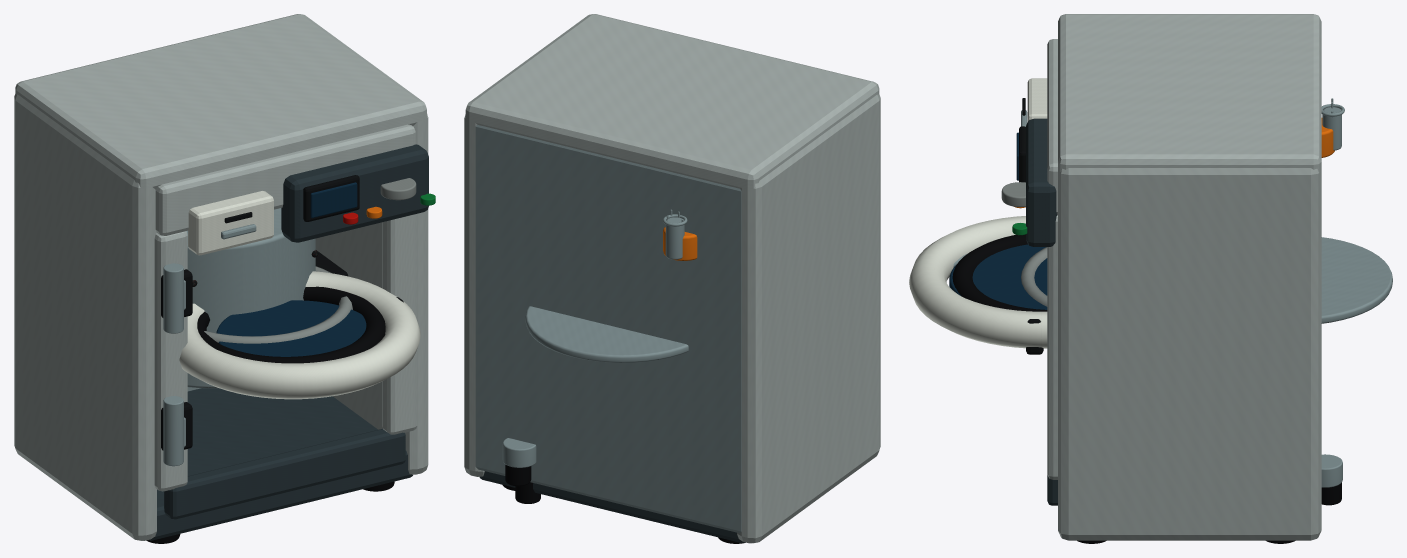
File: WASHER-001.fbx
3 renders of one model, left to right at view 1: azimuth 30°, elevation 25°; view 2: azimuth 150°, elevation 25°; view 3: azimuth 270°, elevation 25°, orthographic. The views are drawn at different scales.
Visible parts, largest first — view 1: LeftCabinetPanel_Mesh, CabinetTop_Mesh, CabinetBottom_Mesh, DoorOuterRing_Mesh, FrontLowerRail_Mesh, StainlessDrumShell_Mesh, FrontUpperRail_Mesh, RightCabinetPanel_Mesh, ConsoleHousing_Mesh, DoorWindow_Mesh, FrontRightRail_Mesh, FrontLeftRail_Mesh (+8 smaller); view 2: CabinetBack_Mesh, LeftCabinetPanel_Mesh, CabinetTop_Mesh, DrumRearPlate_Mesh, RightCabinetPanel_Mesh, CabinetBottom_Mesh, DrainCoupler_Mesh, WaterFeed_Segment_2_Mesh, SolenoidValve_Mesh; view 3: RightCabinetPanel_Mesh, CabinetTop_Mesh, DoorOuterRing_Mesh, DrumRearPlate_Mesh, ConsoleHousing_Mesh, DoorWindow_Mesh, FrontRightRail_Mesh, DoorSeal_Mesh, FrontUpperRail_Mesh, DrawerFace_Mesh, DrumFrontLip_Mesh, DrainCoupler_Mesh.
Part boxes in pixels (x1=…): LeftCabinetPanel_Mesh: x1=14, y1=93, x2=156, y2=540; CabinetTop_Mesh: x1=15, y1=14, x2=426, y2=189; CabinetBottom_Mesh: x1=148, y1=388, x2=412, y2=540; DoorOuterRing_Mesh: x1=179, y1=271, x2=420, y2=399; FrontLowerRail_Mesh: x1=164, y1=428, x2=405, y2=519; StainlessDrumShell_Mesh: x1=186, y1=208, x2=315, y2=388; FrontUpperRail_Mesh: x1=155, y1=124, x2=415, y2=235; RightCabinetPanel_Mesh: x1=315, y1=114, x2=428, y2=474; ConsoleHousing_Mesh: x1=281, y1=144, x2=428, y2=242; DoorWindow_Mesh: x1=216, y1=300, x2=366, y2=356; FrontRightRail_Mesh: x1=382, y1=214, x2=417, y2=434; FrontLeftRail_Mesh: x1=154, y1=231, x2=187, y2=491; CabinetBack_Mesh: x1=475, y1=125, x2=741, y2=533; LeftCabinetPanel_Mesh: x1=737, y1=94, x2=880, y2=543; CabinetTop_Mesh: x1=465, y1=14, x2=879, y2=189; DrumRearPlate_Mesh: x1=525, y1=306, x2=688, y2=362; RightCabinetPanel_Mesh: x1=464, y1=114, x2=484, y2=476; CabinetBottom_Mesh: x1=479, y1=471, x2=745, y2=542; DrainCoupler_Mesh: x1=502, y1=438, x2=536, y2=467; WaterFeed_Segment_2_Mesh: x1=665, y1=217, x2=684, y2=259; SolenoidValve_Mesh: x1=663, y1=227, x2=697, y2=260; RightCabinetPanel_Mesh: x1=1058, y1=168, x2=1321, y2=540; CabinetTop_Mesh: x1=1058, y1=14, x2=1321, y2=173; DoorOuterRing_Mesh: x1=909, y1=216, x2=1047, y2=348; DrumRearPlate_Mesh: x1=1321, y1=237, x2=1392, y2=323; ConsoleHousing_Mesh: x1=1026, y1=118, x2=1056, y2=246; DoorWindow_Mesh: x1=949, y1=244, x2=1047, y2=309; FrontRightRail_Mesh: x1=1047, y1=215, x2=1057, y2=479; DoorSeal_Mesh: x1=952, y1=234, x2=1047, y2=311; FrontUpperRail_Mesh: x1=1047, y1=39, x2=1057, y2=215; DrawerFace_Mesh: x1=1027, y1=78, x2=1047, y2=121; DrumFrontLip_Mesh: x1=1021, y1=247, x2=1047, y2=306; DrainCoupler_Mesh: x1=1321, y1=454, x2=1342, y2=487.
Size of the model in its own units: 198 by 247 by 272.
1 material, 1 textured.
